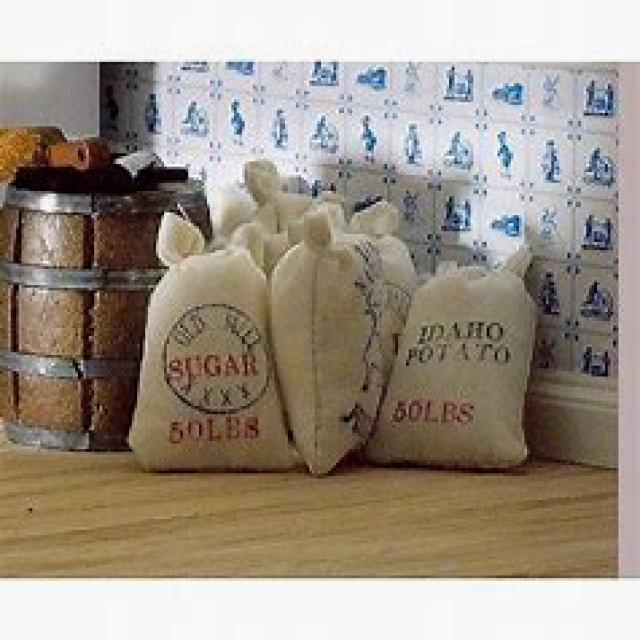gunny_bag: (127, 215, 308, 473), (372, 266, 541, 473), (266, 215, 399, 470)
